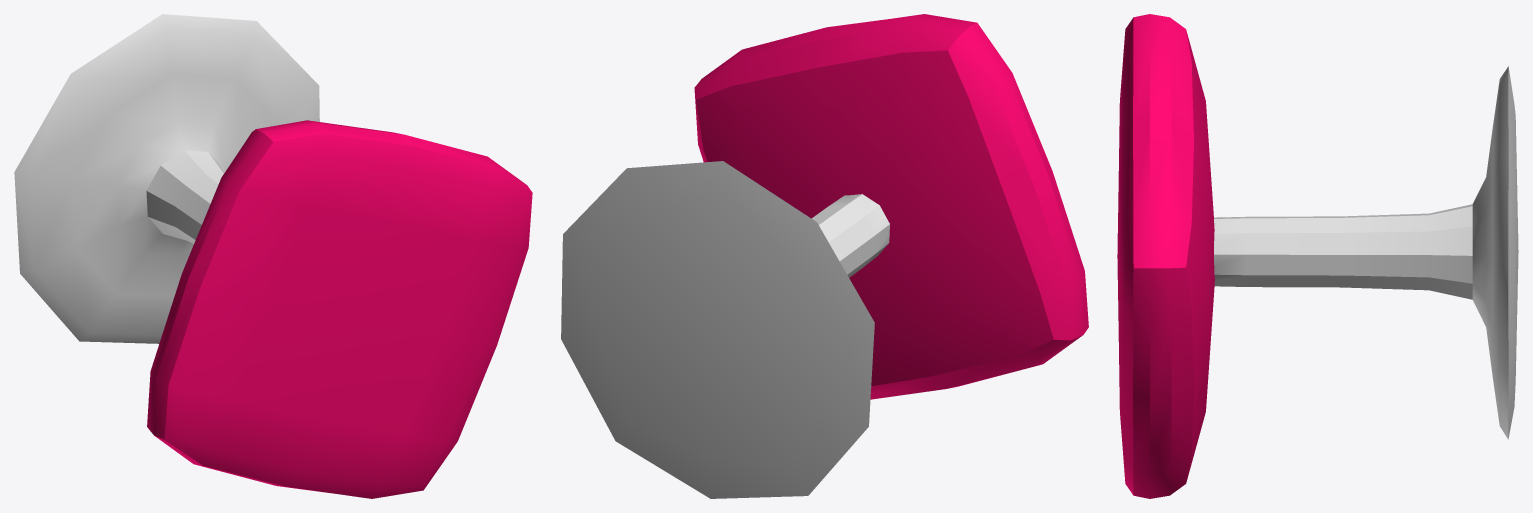
The model's file is Butaca.fbx.
The picture shows the model from 3 angles, left to right: view 1: azimuth 30°, elevation 25°; view 2: azimuth 150°, elevation 25°; view 3: azimuth 270°, elevation 25°; orthographic projection. The views are drawn at different scales.
Visible parts, largest first — view 1: taburete, pata taburete; view 2: taburete, pata taburete; view 3: taburete, pata taburete.
Boxes of the visible parts, box(x1,y1,x2,y2) form: taburete: box(147, 120, 532, 498); pata taburete: box(14, 14, 319, 343); taburete: box(694, 14, 1088, 399); pata taburete: box(561, 161, 889, 498); taburete: box(1117, 14, 1214, 498); pata taburete: box(1214, 66, 1518, 439).
Size of the model in its own units: 48.83 by 48.83 by 43.55.
Materials: 1 (1 with a texture image).
